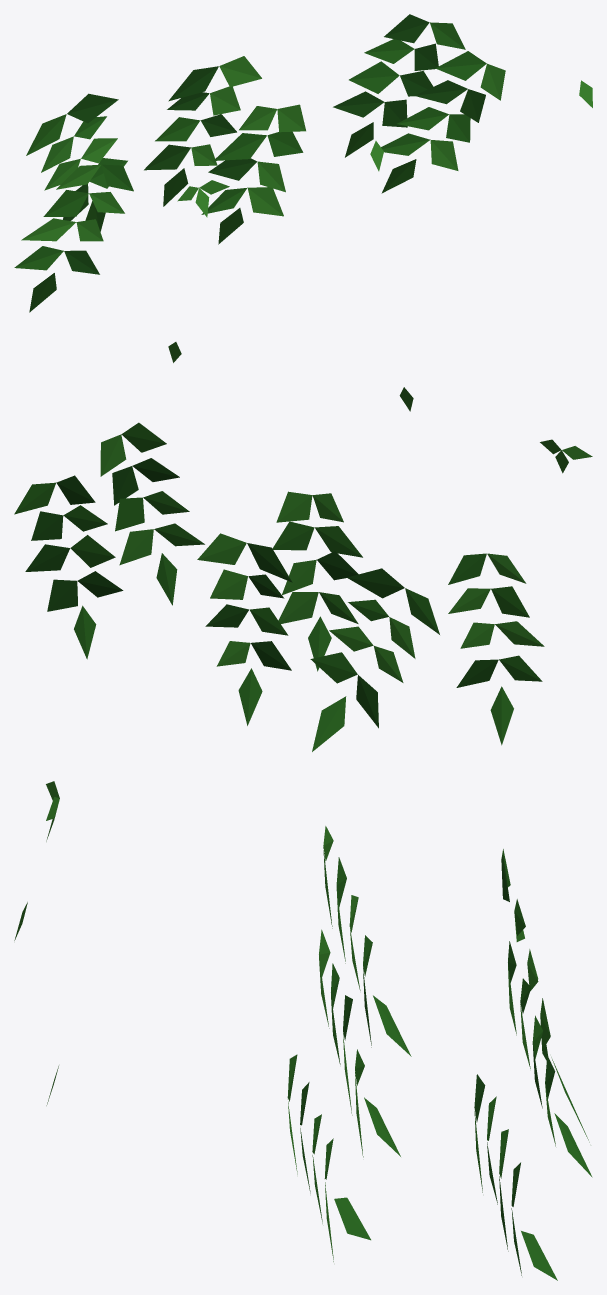
The picture shows the model from 3 angles, top to bottom: view 1: azimuth 30°, elevation 25°; view 2: azimuth 150°, elevation 25°; view 3: azimuth 270°, elevation 25°; orthographic projection. The views are drawn at different scales.
Visible parts, largest first — view 1: r18c0_l11; view 2: r18c0_l11; view 3: r18c0_l11.
Part boxes in pixels (x1,y1,x2,y2): r18c0_l11: (14, 14, 592, 312); r18c0_l11: (14, 342, 592, 751); r18c0_l11: (14, 781, 592, 1280).
Size of the model in its own units: 1.41 by 0.5776 by 0.9408.
